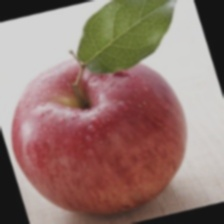apple: (50, 57, 194, 195)
